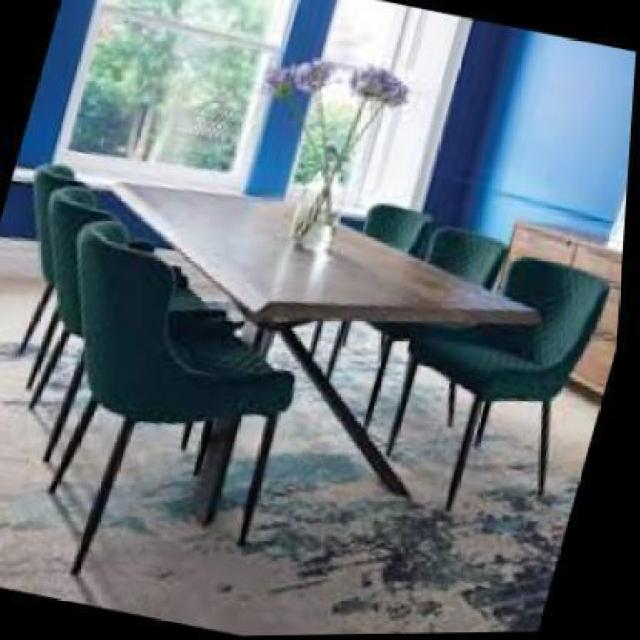tables: (94, 178, 541, 504)
